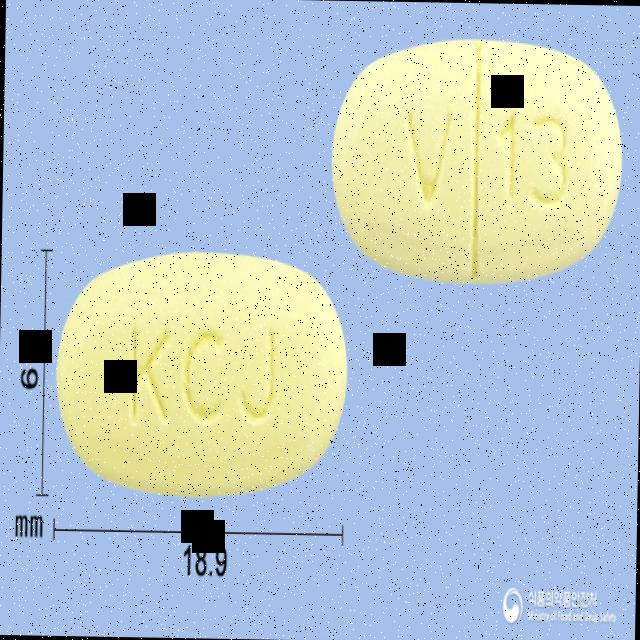Retami Tab: (53, 245, 350, 500), (328, 32, 626, 286)
